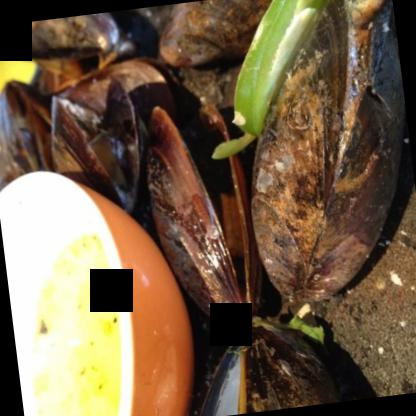mussel: (220, 0, 415, 313), (140, 88, 280, 333)
